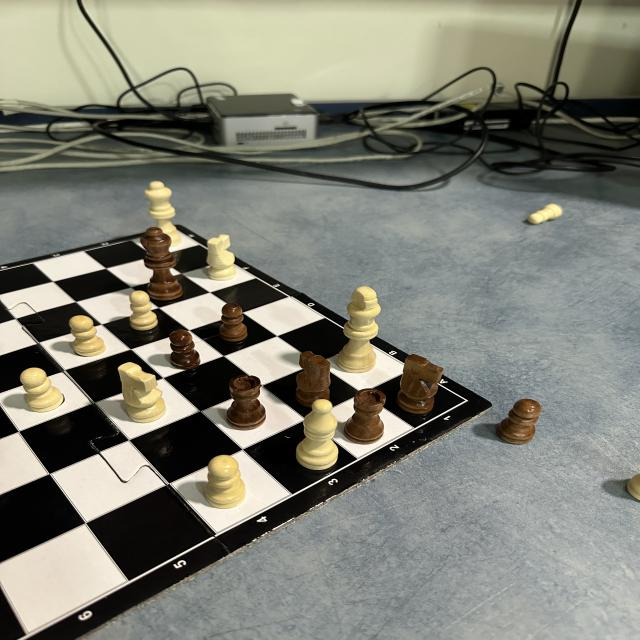Black-Knight: (396, 355, 444, 413), (296, 350, 332, 410)
Black-Pawn: (497, 398, 542, 444), (168, 329, 202, 369), (219, 302, 248, 342)
Black-Queen: (142, 228, 182, 300)
Black-Rook: (345, 388, 387, 443), (229, 374, 266, 430)
White-Bishop: (295, 399, 340, 470)
White-King: (335, 287, 383, 372)
White-Knight: (119, 363, 166, 423), (206, 234, 235, 280)
White-Pawn: (206, 454, 245, 508), (22, 368, 64, 411), (67, 315, 106, 356), (130, 291, 158, 330), (528, 203, 562, 225)
White-Queen: (145, 181, 185, 246)
